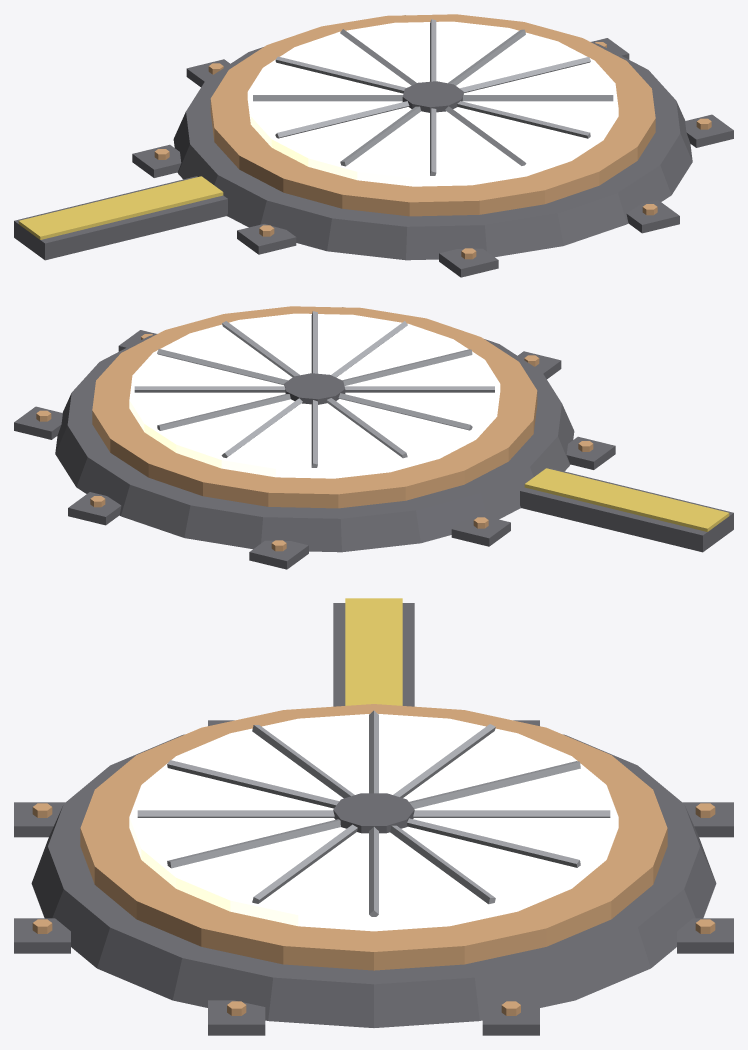
The model's file is beam_emitter.glb.
The picture shows the model from 3 angles, top to bottom: view 1: azimuth 30°, elevation 25°; view 2: azimuth 150°, elevation 25°; view 3: azimuth 270°, elevation 25°; orthographic projection. The views are drawn at different scales.
Parts seen in each view (by area): view 1: BeamEmitter; view 2: BeamEmitter; view 3: BeamEmitter.
Boxes of the visible parts, box(x1,y1,x2,y2) form: BeamEmitter: box(14, 14, 733, 277); BeamEmitter: box(14, 306, 733, 569); BeamEmitter: box(14, 598, 733, 1035).
Size of the model in its own units: 1.19 by 0.1 by 0.883.
